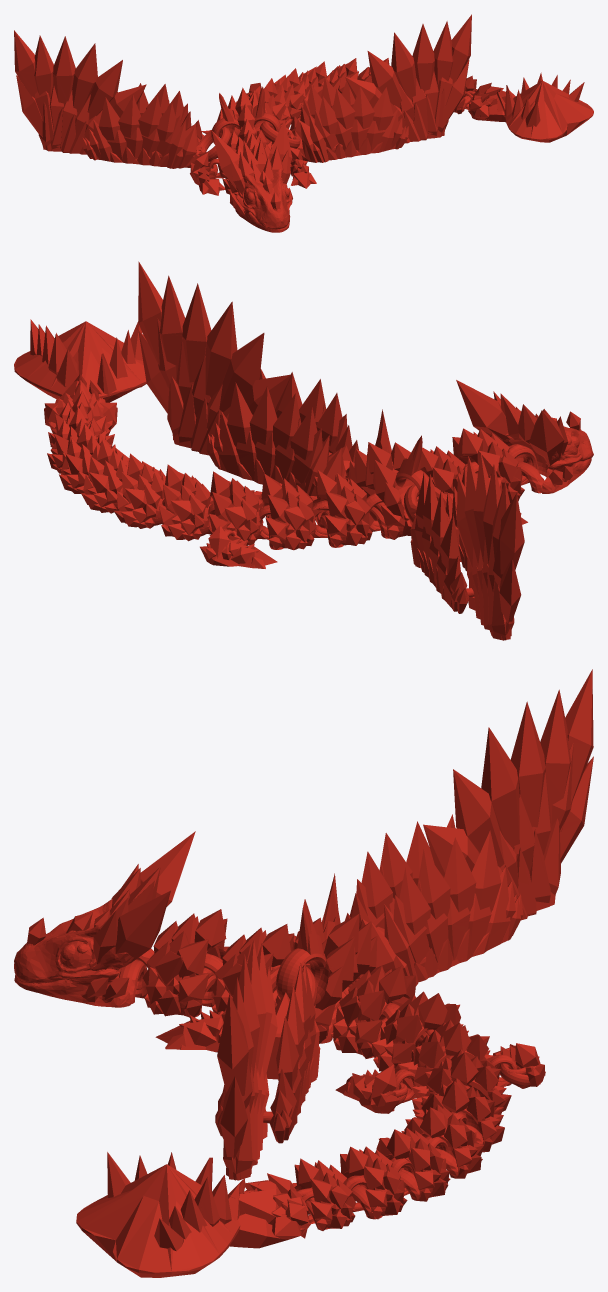
Rendered from crystal-dragon.glb.
3 views of the same model, one above another, from view 1: azimuth 30°, elevation 25°; view 2: azimuth 150°, elevation 25°; view 3: azimuth 270°, elevation 25° (orthographic). The views are drawn at different scales.
Parts seen in each view (by area): view 1: Wing+Dragon Heart Tail+V4+no+supports.stl_fil1; view 2: Wing+Dragon Heart Tail+V4+no+supports.stl_fil1; view 3: Wing+Dragon Heart Tail+V4+no+supports.stl_fil1.
Boxes of the visible parts, x1=… form: Wing+Dragon Heart Tail+V4+no+supports.stl_fil1: x1=14, y1=14, x2=593, y2=232; Wing+Dragon Heart Tail+V4+no+supports.stl_fil1: x1=14, y1=261, x2=593, y2=640; Wing+Dragon Heart Tail+V4+no+supports.stl_fil1: x1=14, y1=669, x2=593, y2=1277.
Size of the model in its own units: 0.2288 by 0.0546 by 0.1356.
